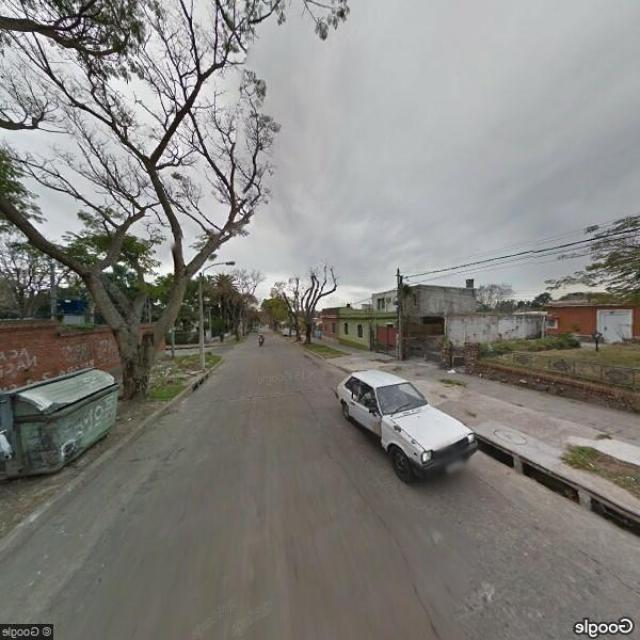garbage container: (0, 359, 129, 492)
